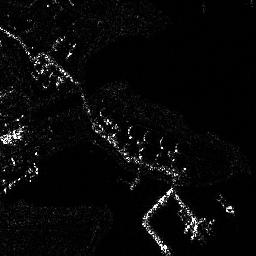ship: (216, 192, 235, 215)
